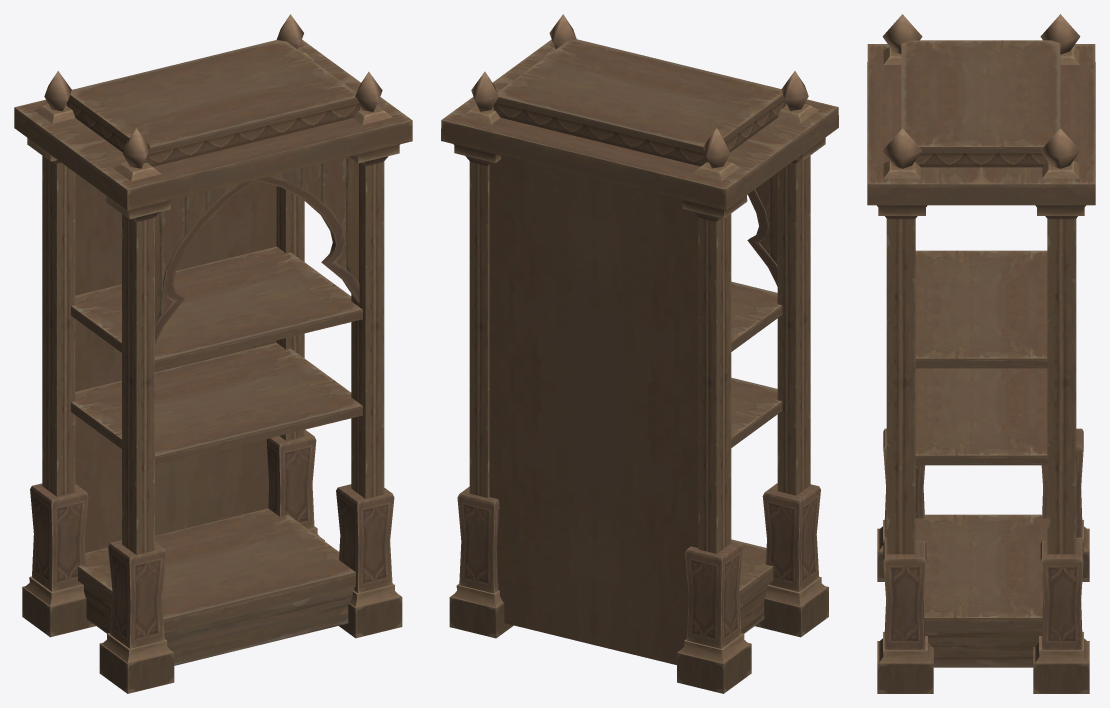
File: Homeworld_Interior_Xm_Cabinet_Prop_Shineijiazi_01_Lod0.fbx
The picture shows the model from 3 angles, left to right: view 1: azimuth 30°, elevation 25°; view 2: azimuth 150°, elevation 25°; view 3: azimuth 270°, elevation 25°; orthographic projection.
Visible parts, largest first — view 1: Area_Xm_Prop_XKC_Shineijiazi_02_Lod0; view 2: Area_Xm_Prop_XKC_Shineijiazi_02_Lod0; view 3: Area_Xm_Prop_XKC_Shineijiazi_02_Lod0.
Boxes of the visible parts, <box> form: Area_Xm_Prop_XKC_Shineijiazi_02_Lod0: <box>14,14,412,693</box>; Area_Xm_Prop_XKC_Shineijiazi_02_Lod0: <box>441,14,838,693</box>; Area_Xm_Prop_XKC_Shineijiazi_02_Lod0: <box>867,14,1095,693</box>.
Size of the model in its own units: 1.92 by 3.54 by 1.32.
